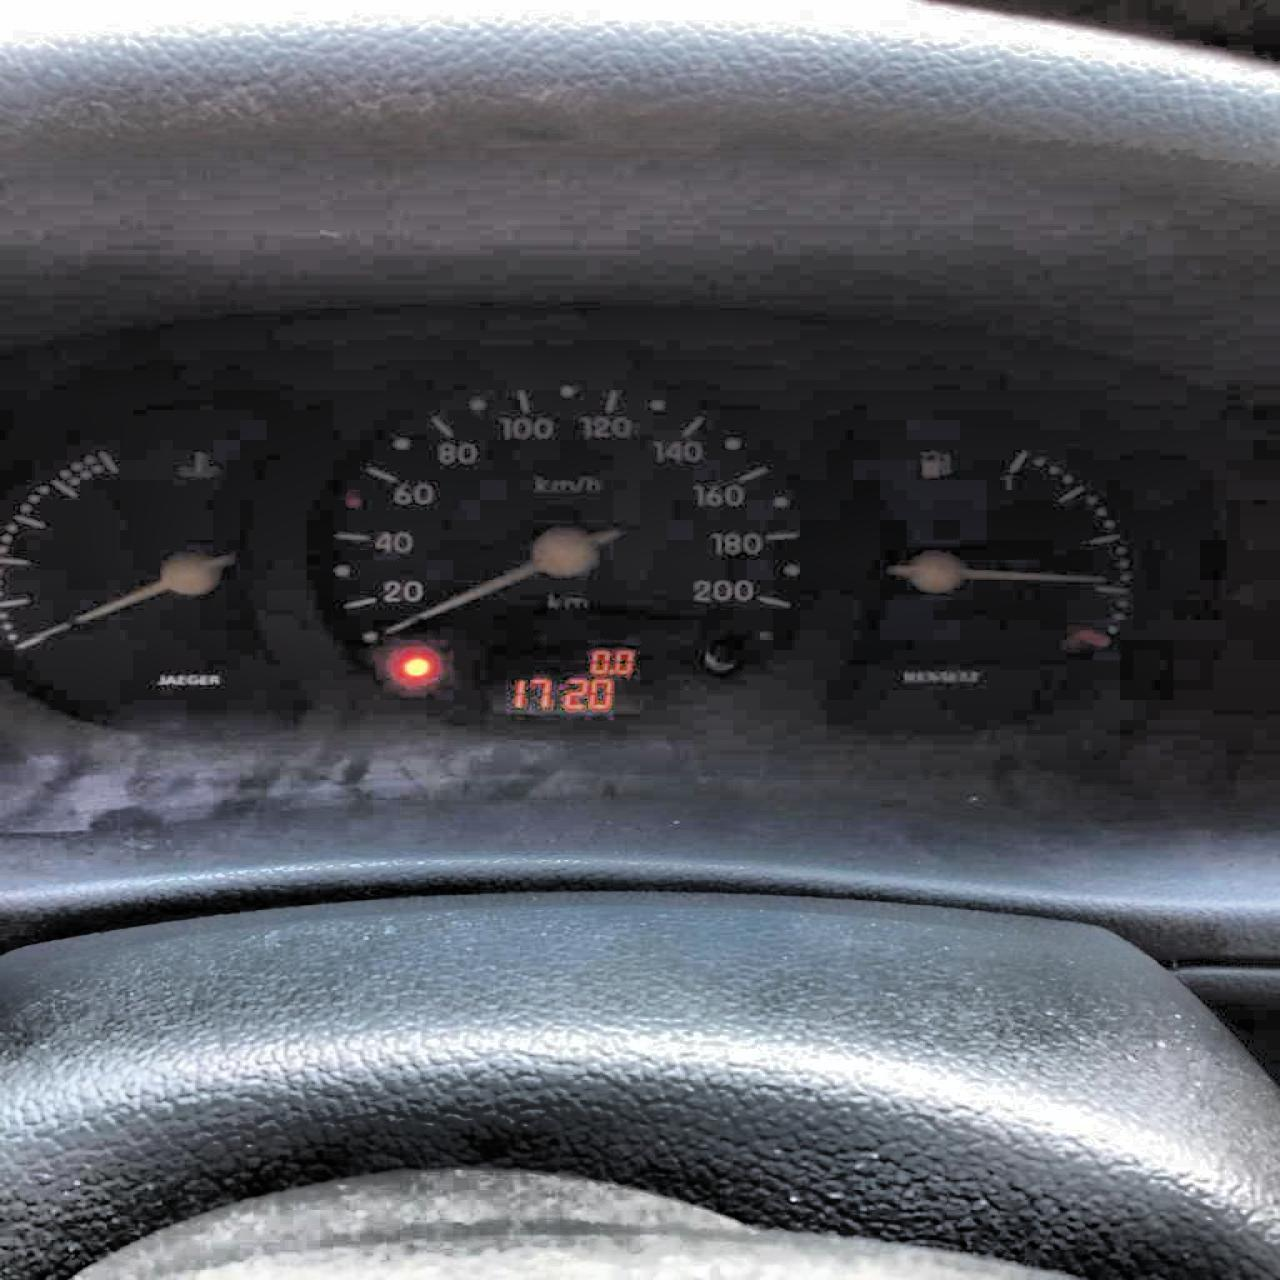-: (606, 667, 612, 674)
0: (588, 678, 610, 708), (588, 648, 608, 674), (613, 648, 629, 673)
1: (515, 678, 525, 708)
2: (564, 676, 587, 709)
7: (529, 678, 549, 708)
odometer: (457, 635, 655, 726)
